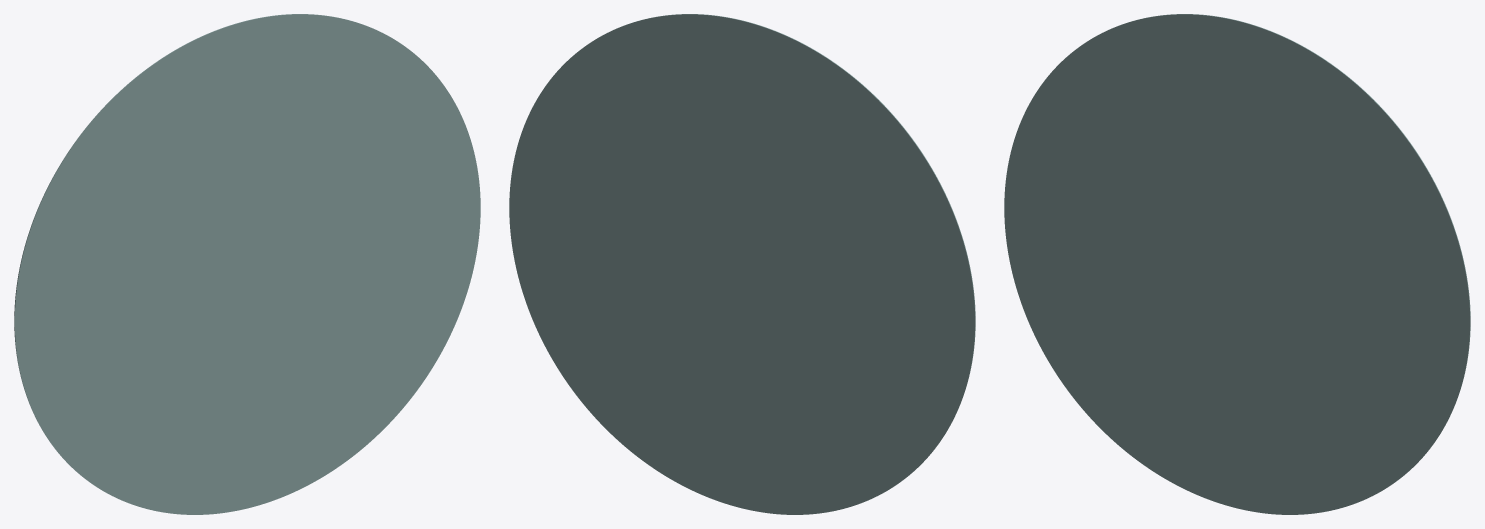
The picture shows the model from 3 angles, left to right: view 1: azimuth 30°, elevation 25°; view 2: azimuth 150°, elevation 25°; view 3: azimuth 330°, elevation 25°; orthographic projection.
Parts seen in each view (by area): view 1: 10256190; view 2: 10256190; view 3: 10256190.
Boxes of the visible parts, <box> form: 10256190: <box>14,14,480,514</box>; 10256190: <box>509,14,975,514</box>; 10256190: <box>1004,14,1470,514</box>.
Bounding box in the file's own units: 1 × 1 × 0.00175.
